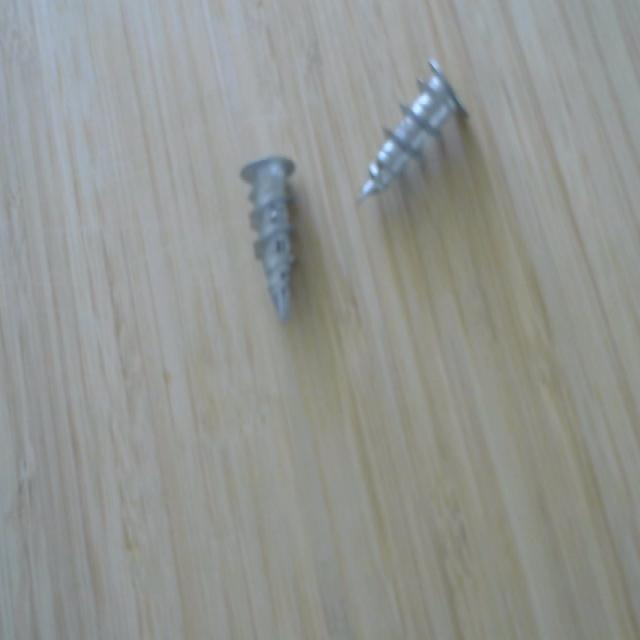Short screw: (359, 48, 471, 222), (234, 140, 307, 318)
